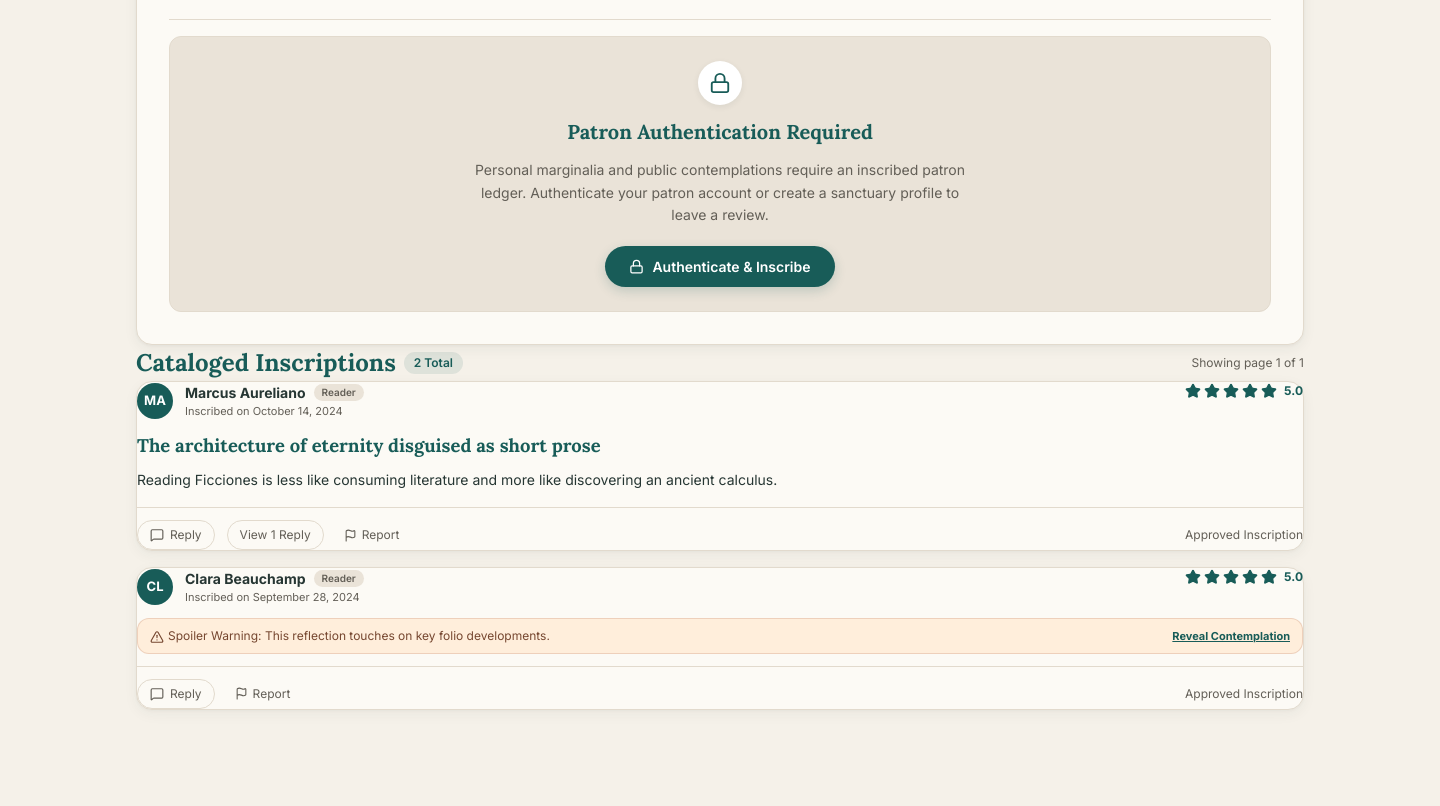
it: BookReviewsPage › shows spoiler warning and toggles content visibility
(page scrolled)
Expected: the text "Spoiler Warning" is shown, [168,628,550,643]
Expected: the text "A masterclass in compression and philosophical rigor" is not shown
Click the button "Reveal Contemplation": (1231, 636) [1172,628,1290,644]
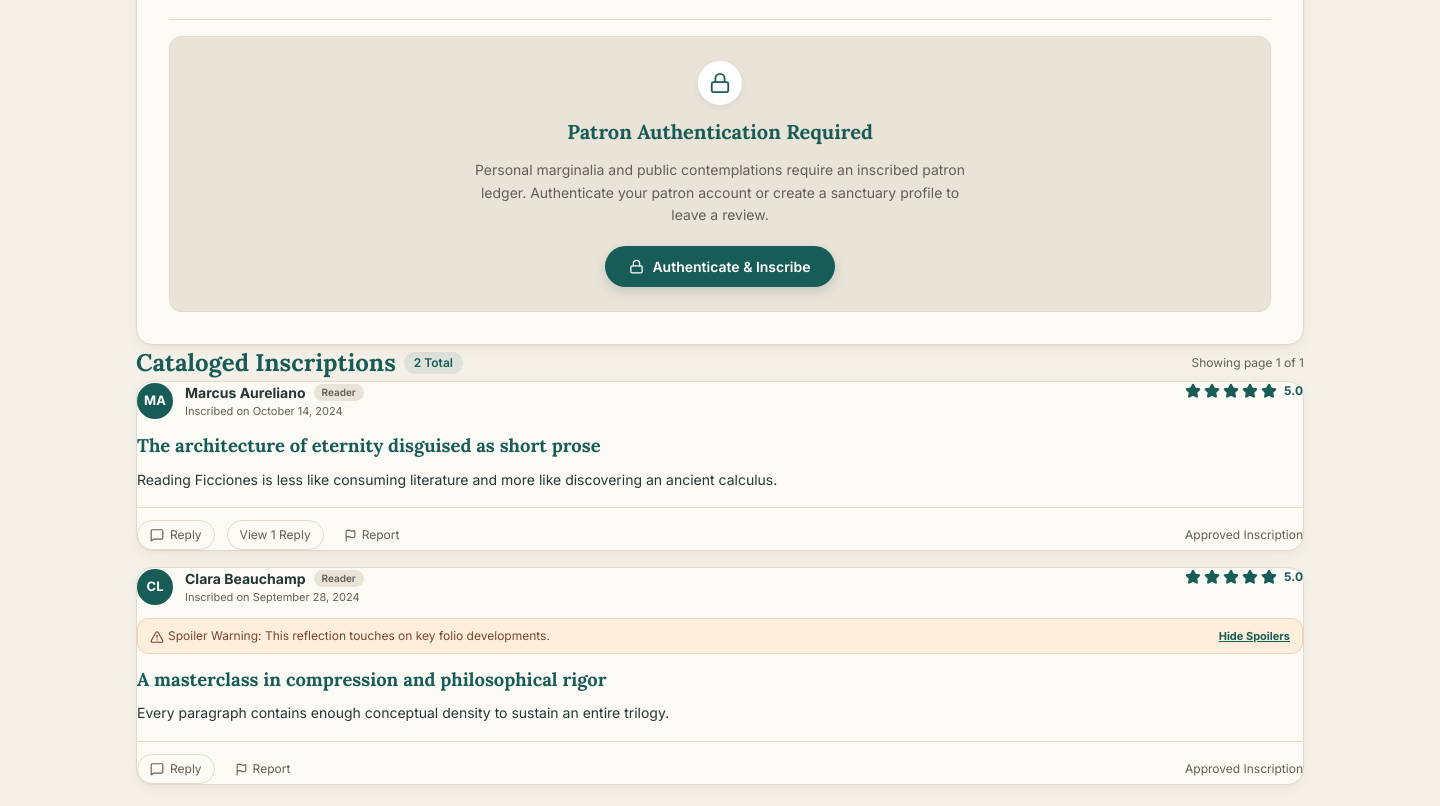
Result: the heading "A masterclass in compression and philosophical rigor" is shown at [137,667,607,691]
